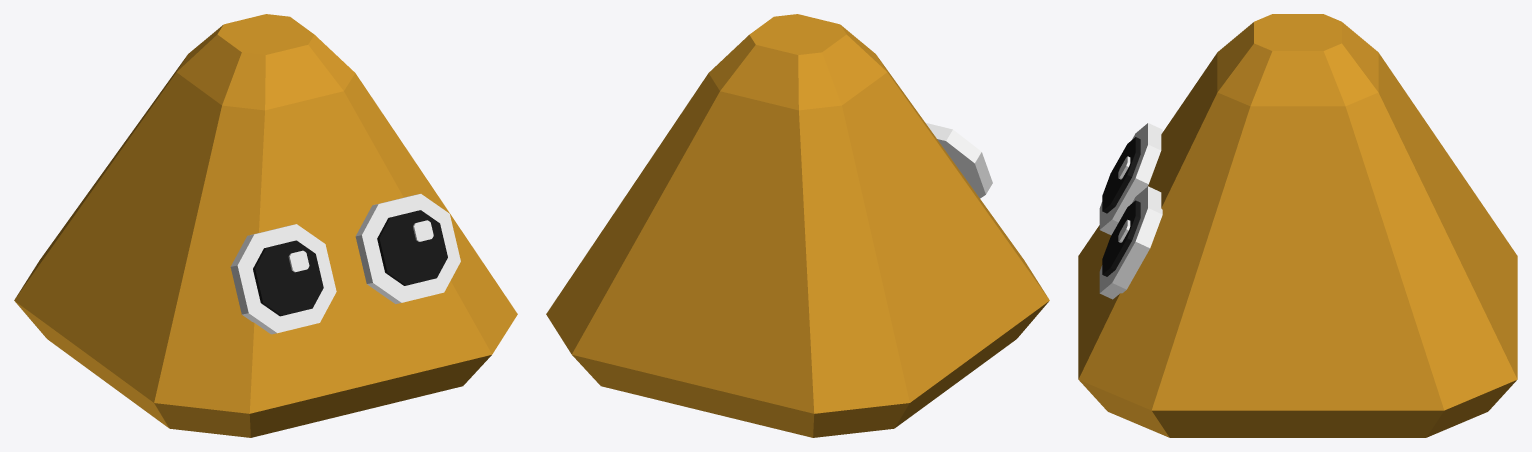
The model's file is Pointy.fbx.
The picture shows the model from 3 angles, left to right: view 1: azimuth 30°, elevation 25°; view 2: azimuth 150°, elevation 25°; view 3: azimuth 270°, elevation 25°; orthographic projection. The views are drawn at different scales.
Visible parts, largest first — view 1: Pointy, Pointy_Eyes, Pointy_Pupils; view 2: Pointy, Pointy_Eyes; view 3: Pointy, Pointy_Eyes, Pointy_Pupils.
Boxes of the visible parts, x1,y1,x2,y2 form: Pointy: [14, 14, 517, 437]; Pointy_Eyes: [230, 194, 460, 334]; Pointy_Pupils: [253, 210, 447, 316]; Pointy: [546, 14, 1049, 437]; Pointy_Eyes: [925, 122, 992, 198]; Pointy: [1078, 14, 1517, 437]; Pointy_Eyes: [1099, 123, 1162, 299]; Pointy_Pupils: [1102, 137, 1140, 276].
Size of the model in its own units: 2.4 by 1.96 by 2.4.
